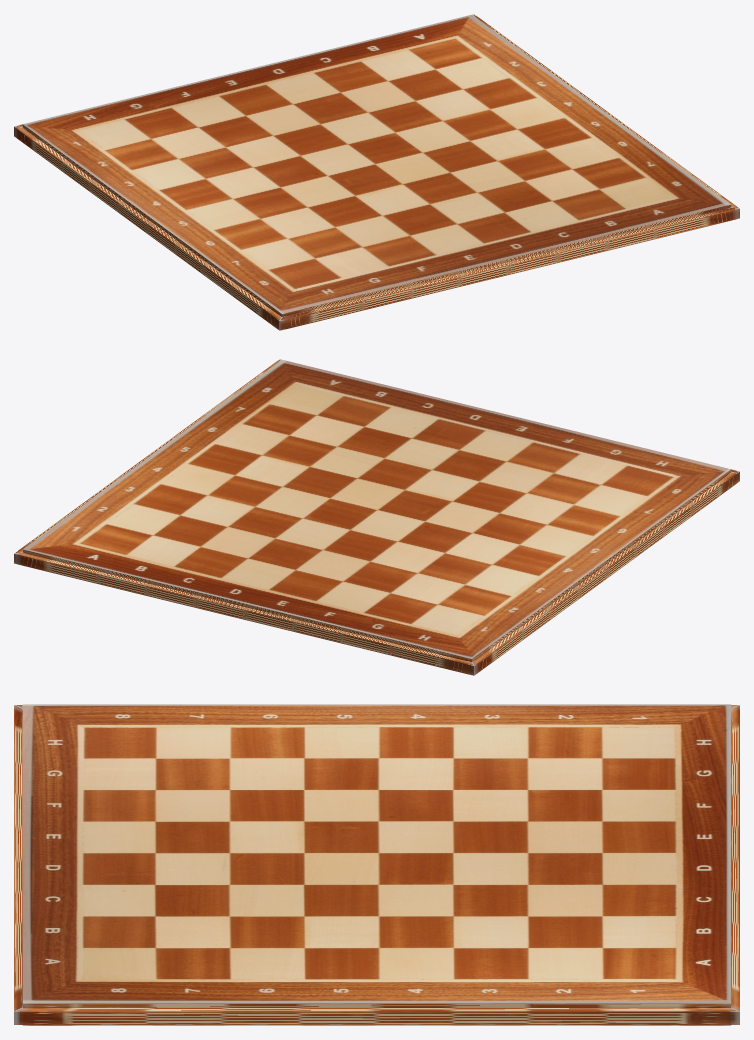
File: tabuleiro.fbx
3 views of the same model, one above another, from view 1: azimuth 30°, elevation 25°; view 2: azimuth 150°, elevation 25°; view 3: azimuth 270°, elevation 25° (orthographic). The views are drawn at different scales.
Parts seen in each view (by area): view 1: Cube; view 2: Cube; view 3: Cube.
Part boxes in pixels (x1,y1,x2,y2): Cube: (14,14,739,330); Cube: (14,359,739,675); Cube: (14,704,739,1025).
Bounding box in the file's own units: 14.55 × 0.4913 × 14.55.
